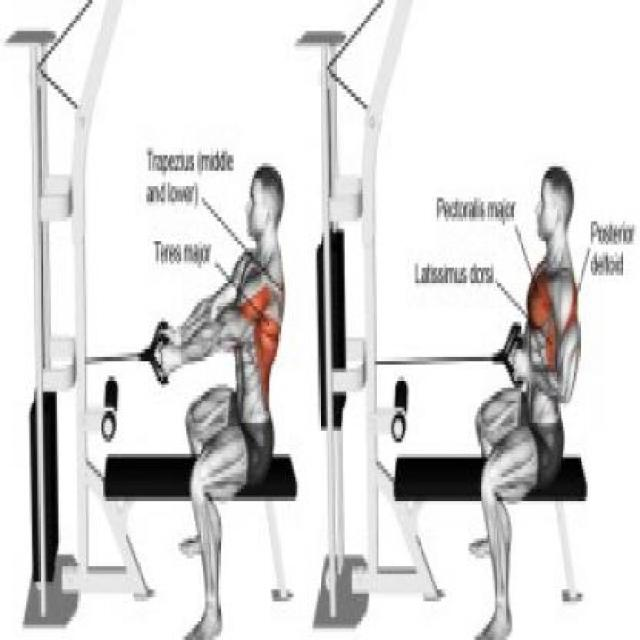Seated Cable Rows: (0, 0, 318, 640)
